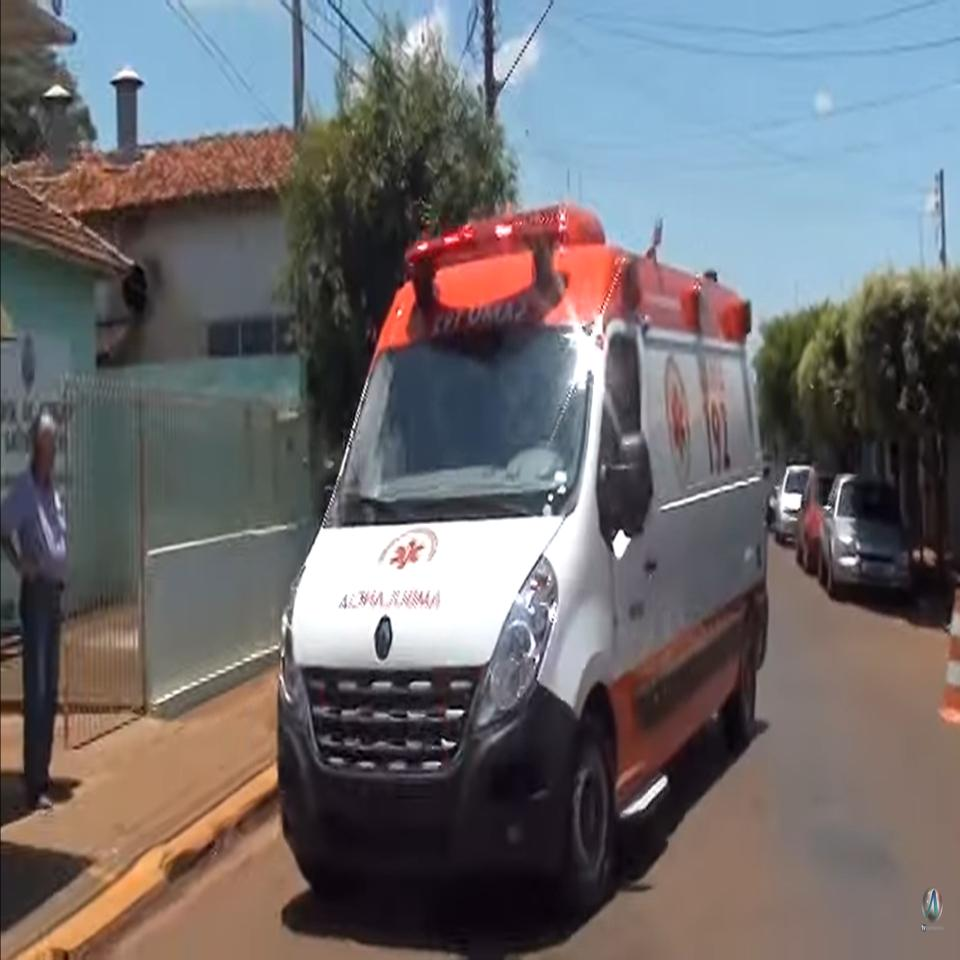bombeiro: (273, 200, 772, 933)
